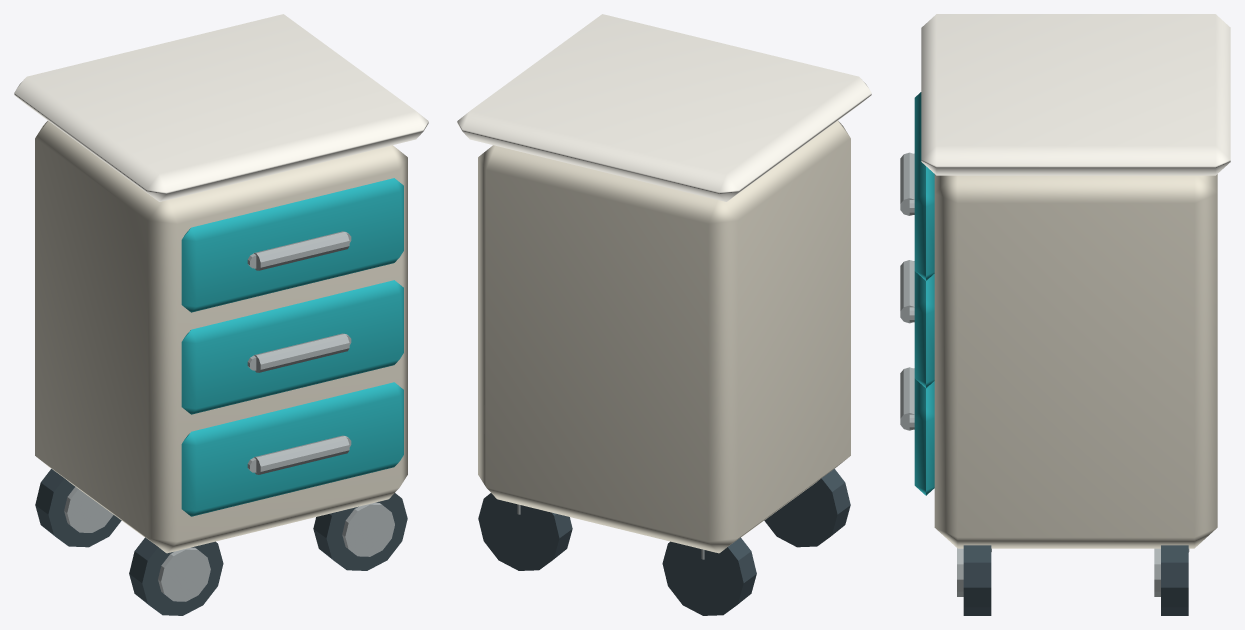
File: BedsideCabinet_standard.glb
The picture shows the model from 3 angles, left to right: view 1: azimuth 30°, elevation 25°; view 2: azimuth 150°, elevation 25°; view 3: azimuth 270°, elevation 25°; orthographic projection. The views are drawn at different scales.
Visible parts, largest first — view 1: Static_ivory, Static_white, Drawer_2, Drawer_3, Drawer_1, Static_dark, Static_steel; view 2: Static_ivory, Static_white, Static_dark; view 3: Static_ivory, Static_white, Static_dark, Drawer_1, Drawer_3, Drawer_2, Static_steel.
Part boxes in pixels (x1,y1,x2,y2): Static_ivory: (35,121,407,553); Static_white: (14,14,428,201); Drawer_2: (181,280,403,414); Drawer_3: (181,382,403,516); Drawer_1: (181,178,403,312); Static_dark: (35,469,407,615); Static_steel: (64,487,394,601); Static_ivory: (478,121,850,553); Static_white: (457,14,871,201); Static_dark: (478,469,850,615); Static_ivory: (934,174,1217,548); Static_white: (921,14,1230,175); Static_dark: (963,545,1188,615); Drawer_1: (900,92,934,280); Drawer_3: (900,367,934,495); Drawer_2: (900,260,934,388); Static_steel: (957,548,1189,596).
Bounding box in the file's own units: 0.52 × 0.812 × 0.5023.
